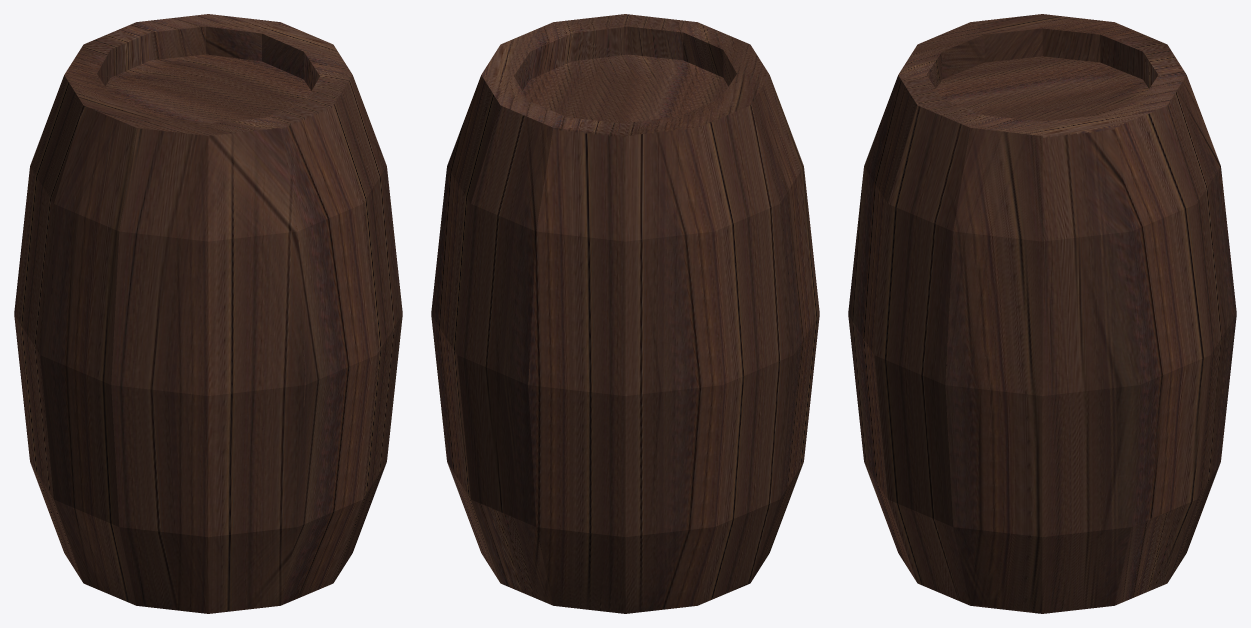
The model's file is Barrel.fbx.
3 views of the same model, side by side, from view 1: azimuth 30°, elevation 25°; view 2: azimuth 150°, elevation 25°; view 3: azimuth 270°, elevation 25° (orthographic).
Parts seen in each view (by area): view 1: Cylinder; view 2: Cylinder; view 3: Cylinder.
Boxes of the visible parts, x1,y1,x2,y2 form: Cylinder: [14, 14, 402, 613]; Cylinder: [431, 14, 819, 613]; Cylinder: [848, 14, 1236, 613].
Bounding box in the file's own units: 2.69 × 3.66 × 2.69.
